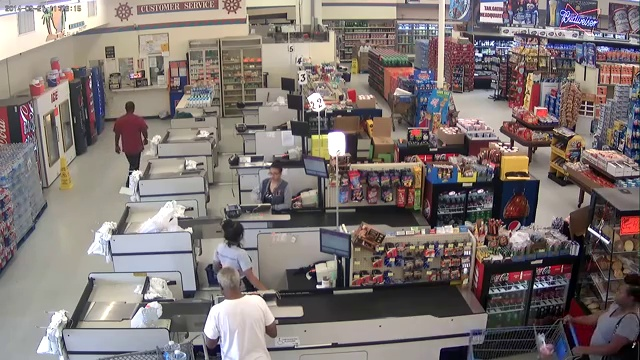face: (267, 169, 282, 182)
